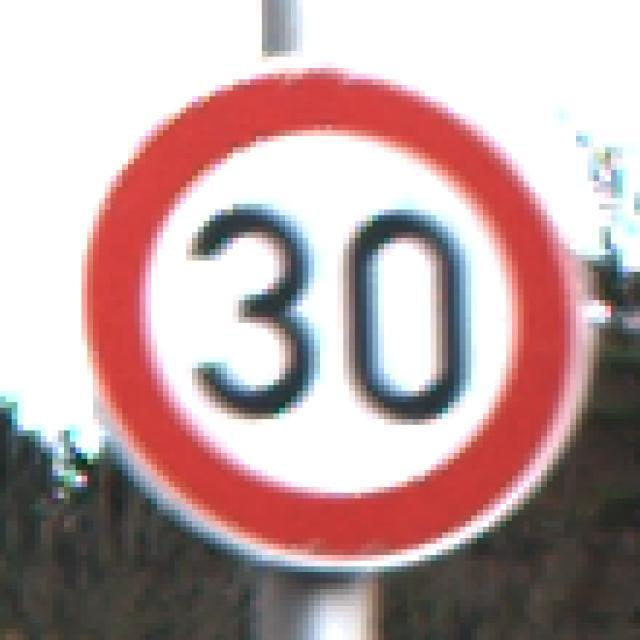Speed Limit -30-: (49, 48, 579, 581)
